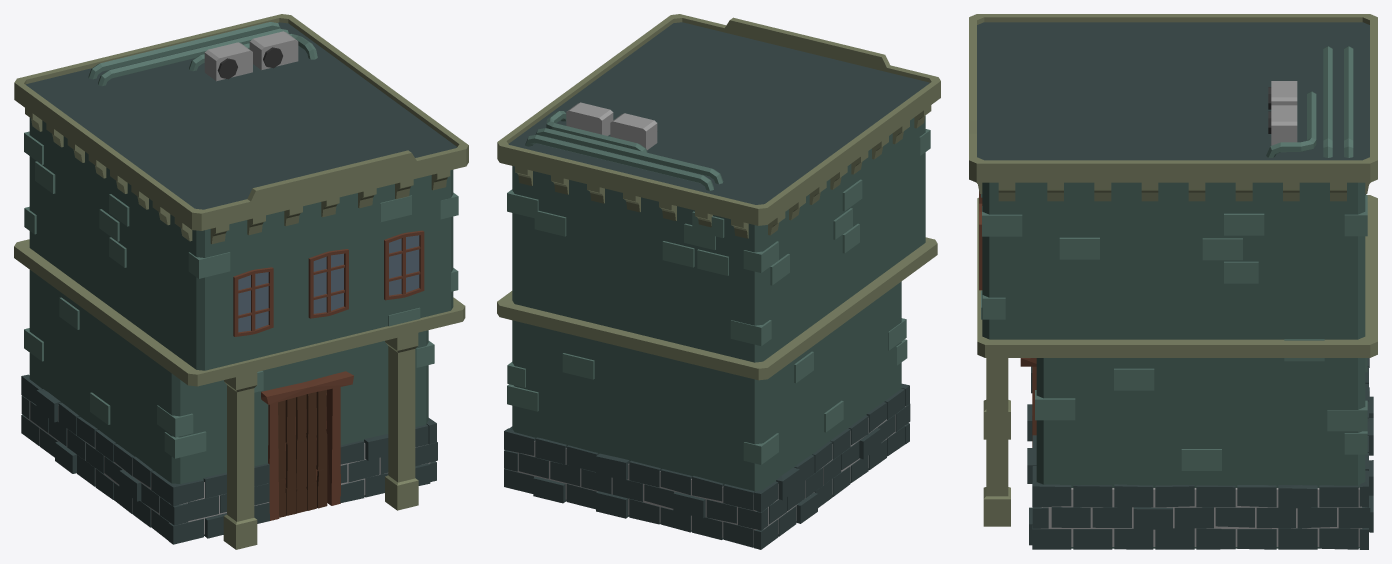
File: 2Story_Columns.glb
The picture shows the model from 3 angles, left to right: view 1: azimuth 30°, elevation 25°; view 2: azimuth 150°, elevation 25°; view 3: azimuth 270°, elevation 25°; orthographic projection. The views are drawn at different scales.
Parts seen in each view (by area): view 1: 2Story_Columns_Mat; view 2: 2Story_Columns_Mat; view 3: 2Story_Columns_Mat.
Part boxes in pixels (box(x1,y1,x2,y2)): 2Story_Columns_Mat: box(14, 14, 468, 549); 2Story_Columns_Mat: box(497, 14, 940, 549); 2Story_Columns_Mat: box(969, 14, 1377, 549).
Bounding box in the file's own units: 2.16 × 2.77 × 2.49.
